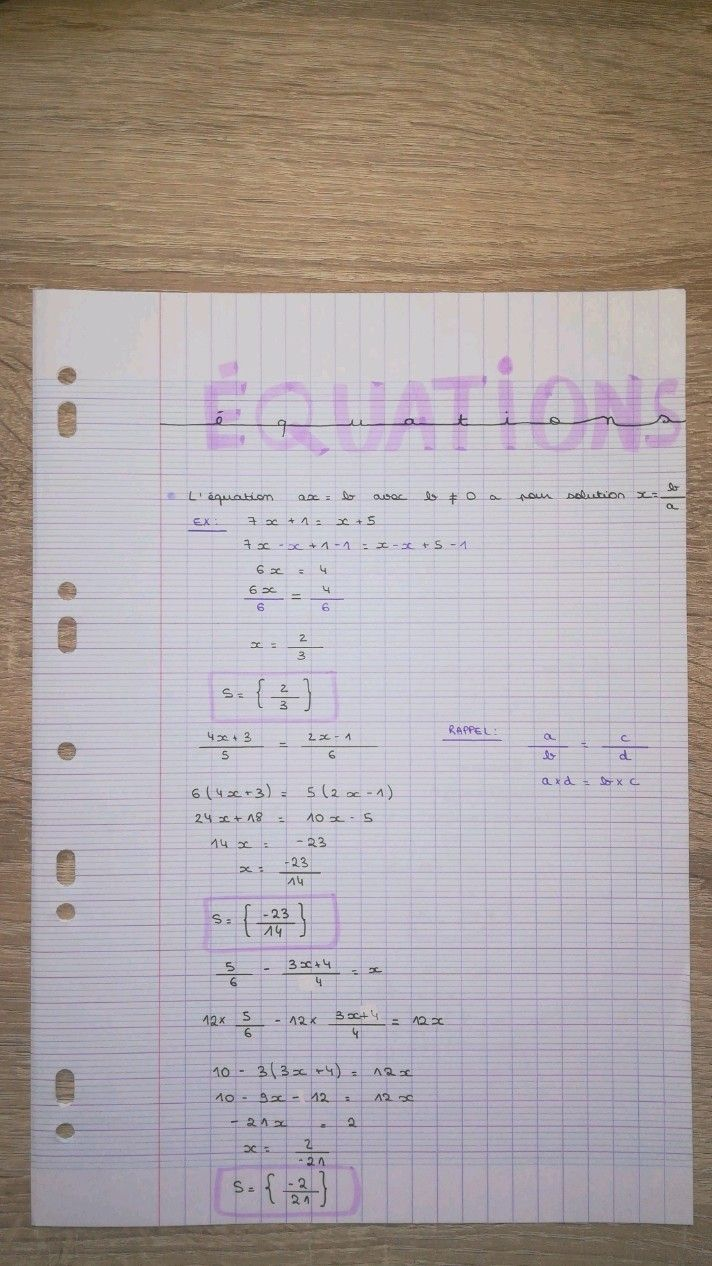page: (34, 290, 689, 1221)
